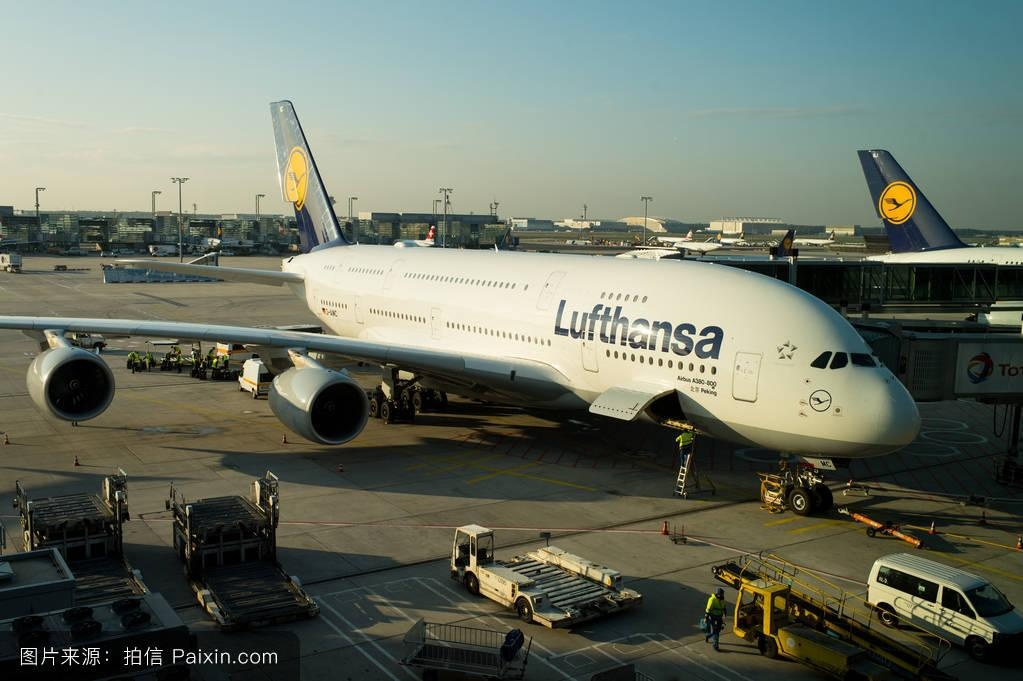airplane: (6, 96, 962, 463)
